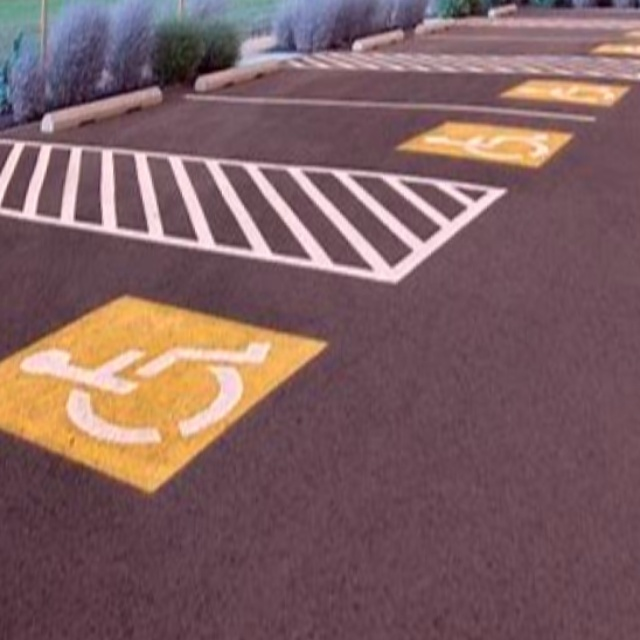ISA: (13, 321, 279, 460), (424, 118, 553, 171)
